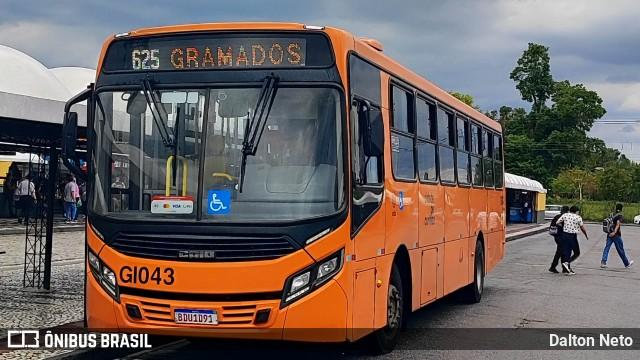GRAMADOS: (165, 40, 305, 72)
